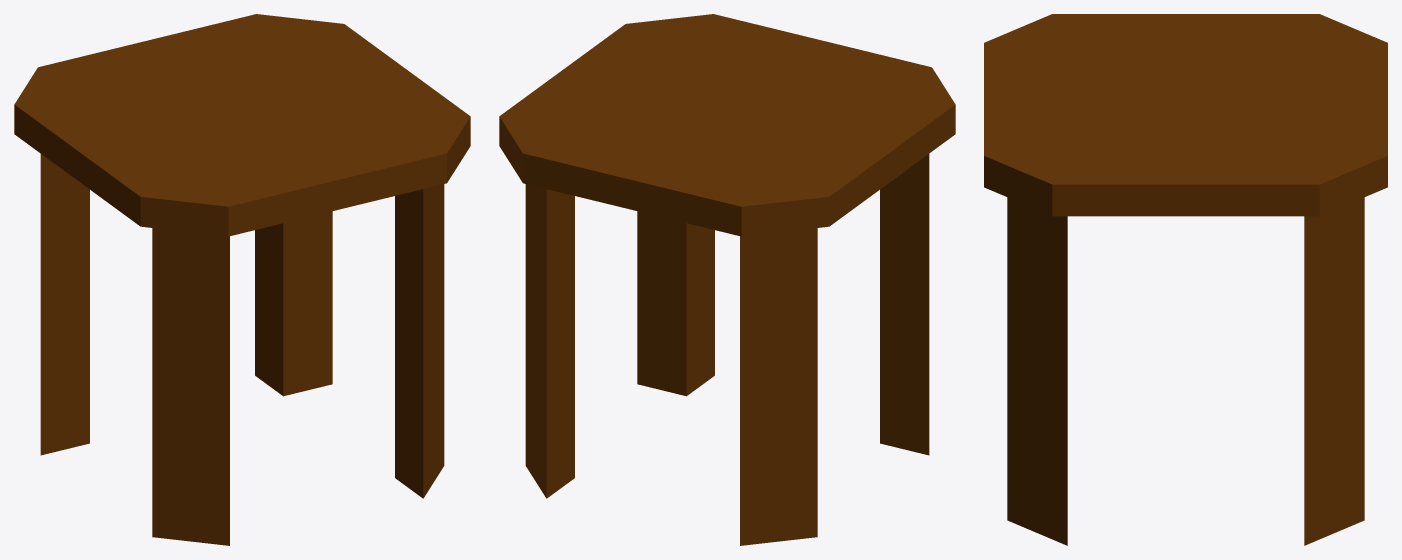
Rendered from Stool.fbx.
3 renders of one model, left to right at view 1: azimuth 30°, elevation 25°; view 2: azimuth 150°, elevation 25°; view 3: azimuth 270°, elevation 25°, orthographic. The views are drawn at different scales.
Visible parts, largest first — view 1: Stool; view 2: Stool; view 3: Stool.
Boxes of the visible parts, bbox=[...] form: Stool: bbox=[14, 14, 470, 545]; Stool: bbox=[499, 14, 955, 545]; Stool: bbox=[984, 14, 1387, 545].
Bounding box in the file's own units: 70.4 × 71.43 × 70.4.
